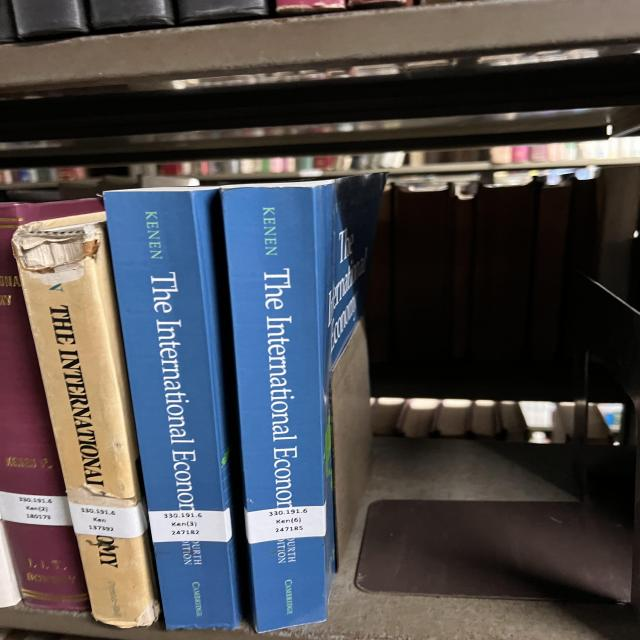Book: (222, 174, 387, 632), (12, 212, 160, 628), (105, 188, 233, 629), (0, 199, 103, 610)
Label: (245, 505, 327, 544), (68, 502, 147, 539), (148, 509, 232, 542), (0, 491, 72, 526)
